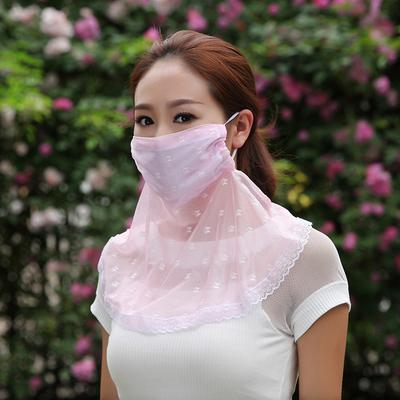OK: (132, 83, 232, 202)
